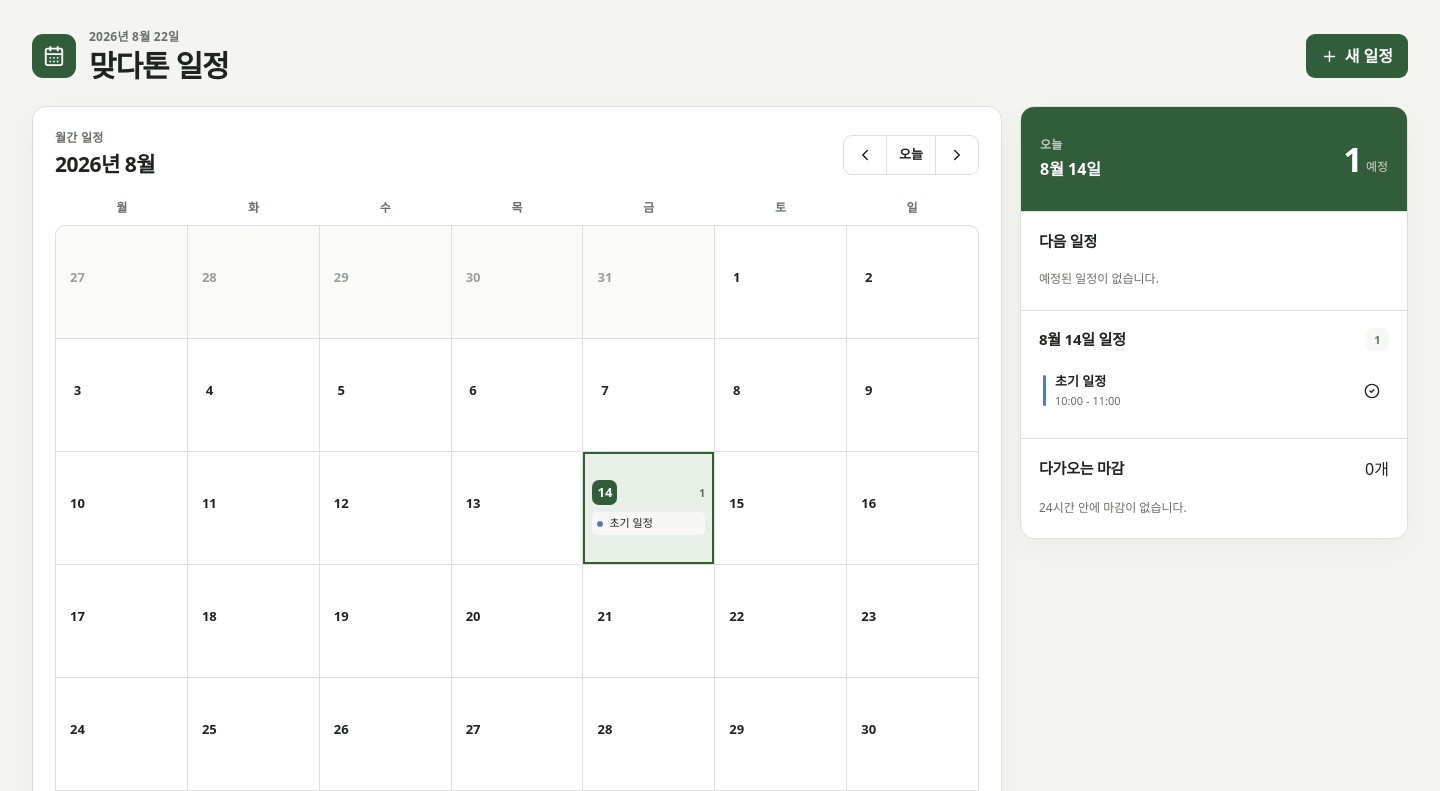
Test case: App › API 일정을 표시하고 새 일정을 추가한다
Expected: the 2nd text "초기 일정" is shown, [609, 515, 653, 532]
Click the button "새 일정": (1357, 56) [1306, 34, 1408, 78]
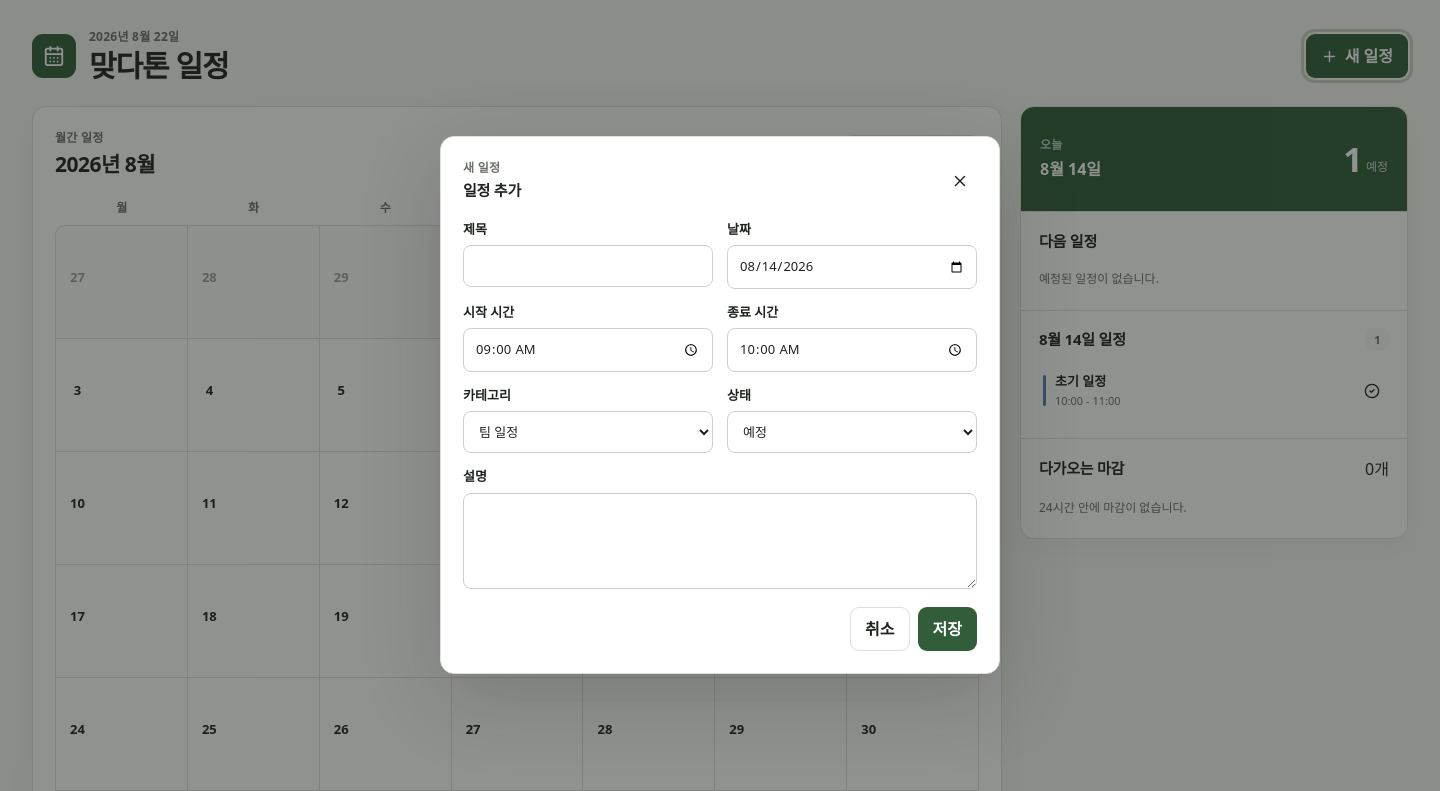
In the field labelled "제목": (588, 266) [463, 245, 713, 287], type "테스트 일정"
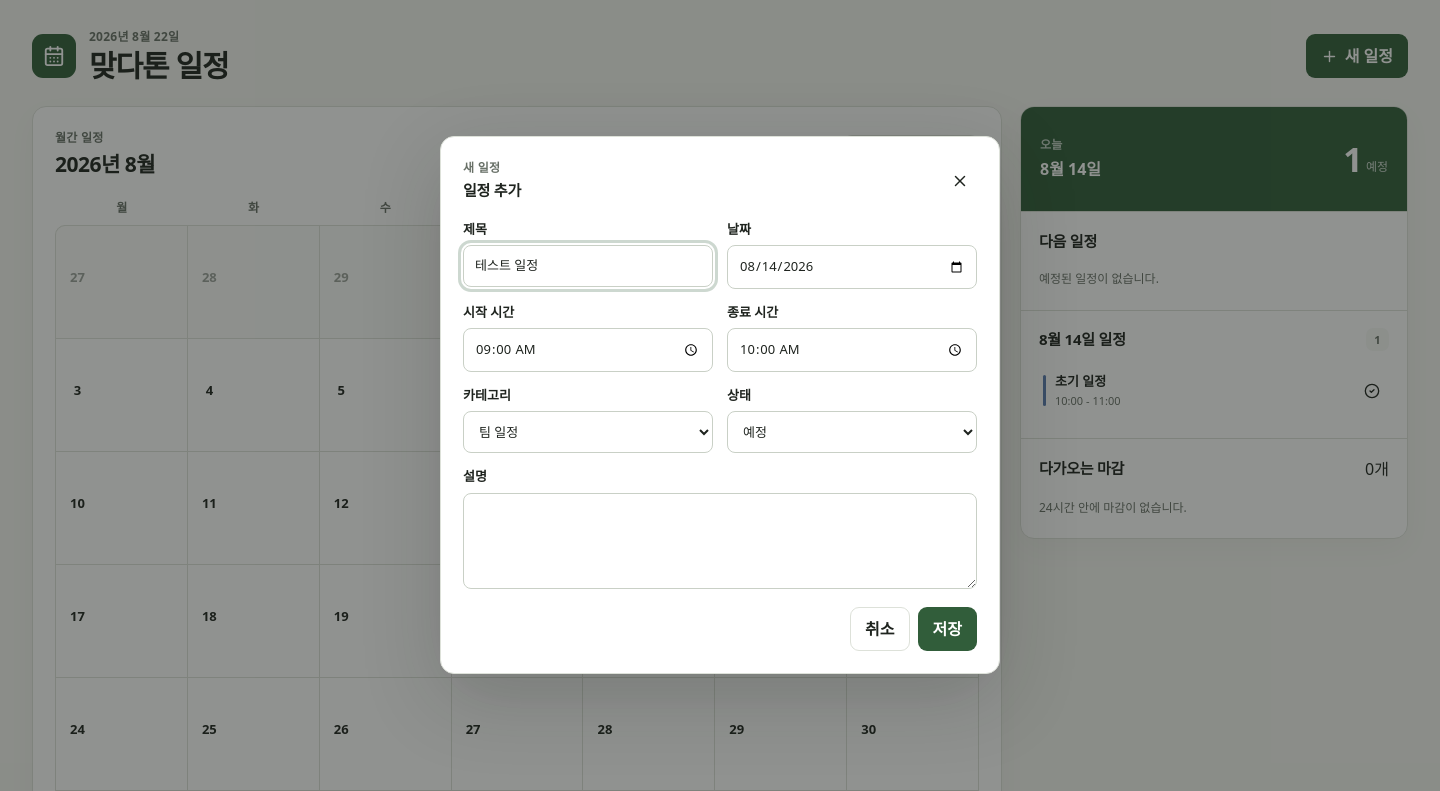
Click the button "저장": (947, 629) [918, 607, 977, 651]
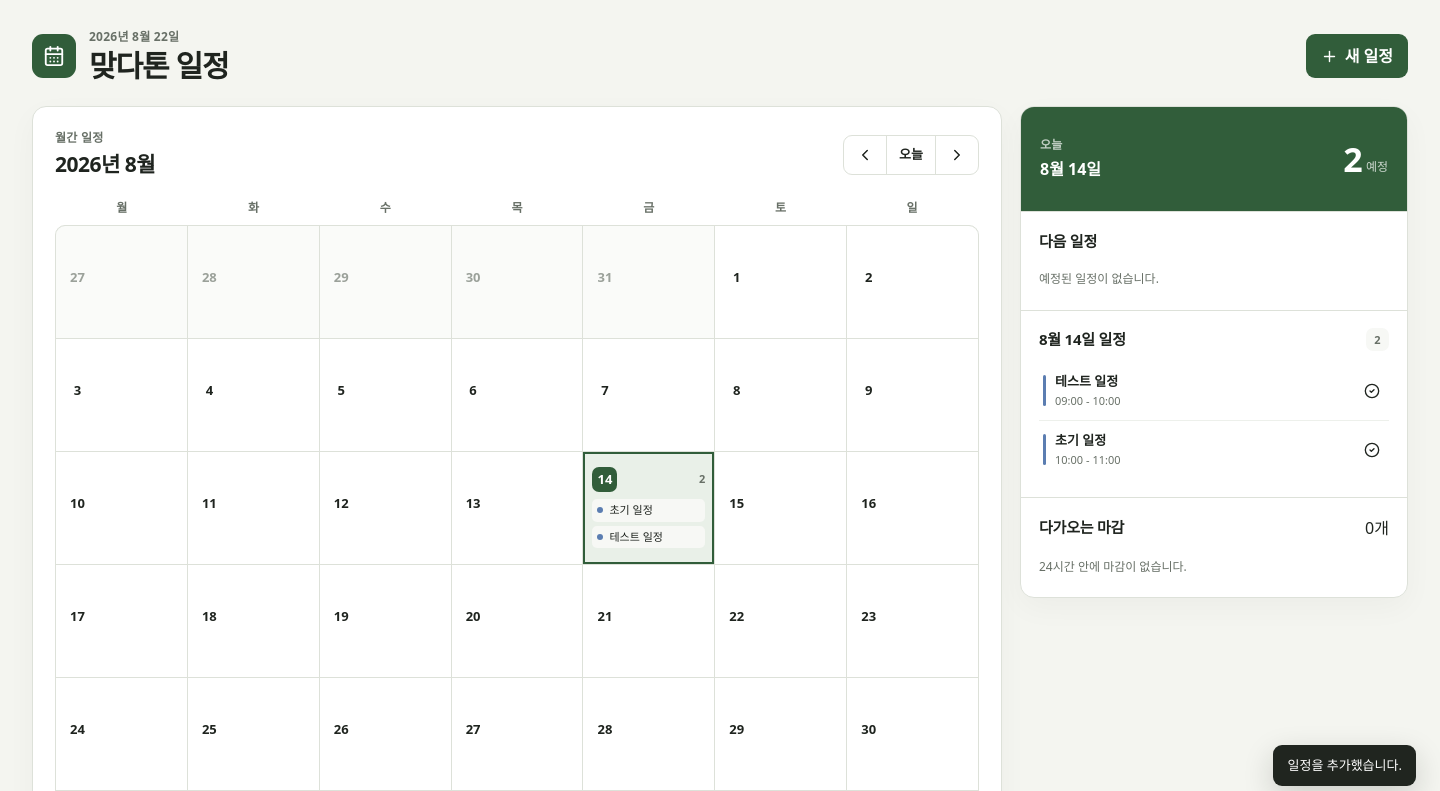
Now the text "일정을 추가했습니다." is shown, box [1274, 744, 1416, 786]
